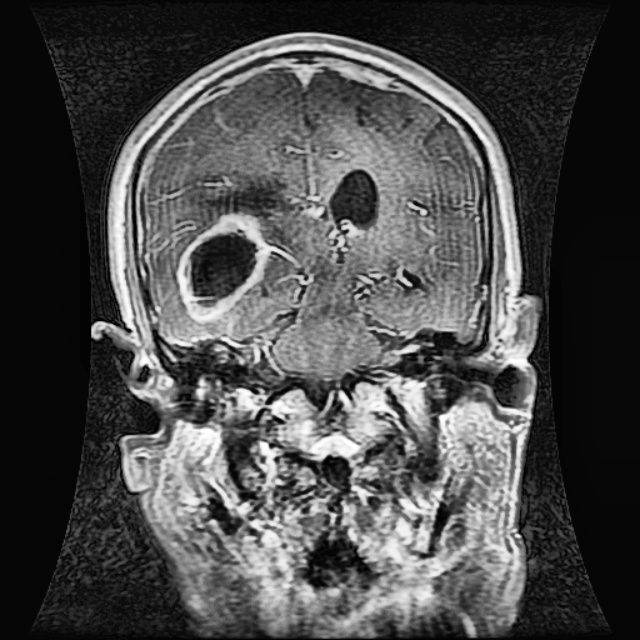Glioma: (177, 209, 273, 323)
